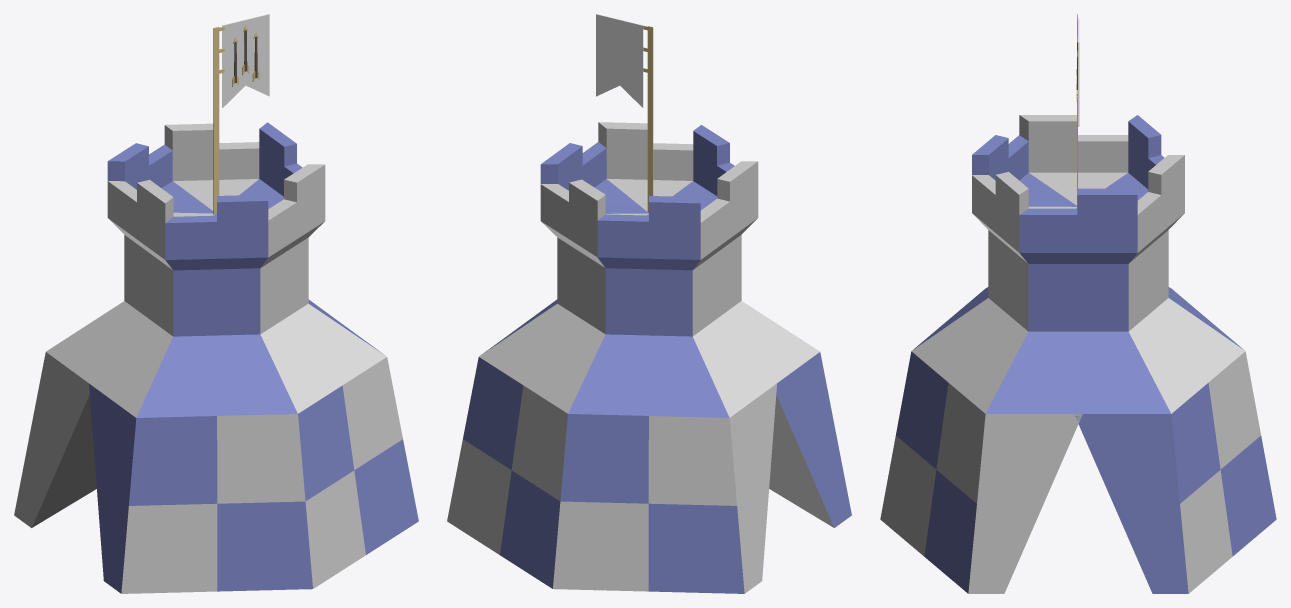
File: archer_tent_01.fbx
The picture shows the model from 3 angles, left to right: view 1: azimuth 30°, elevation 25°; view 2: azimuth 150°, elevation 25°; view 3: azimuth 270°, elevation 25°; orthographic projection. The views are drawn at different scales.
Visible parts, largest first — view 1: pCube158, pCube157; view 2: pCube158, pCube157; view 3: pCube158.
Part boxes in pixels (bbox=[...]): pCube158: bbox=[14, 122, 418, 593]; pCube157: bbox=[213, 14, 269, 214]; pCube158: bbox=[447, 122, 851, 593]; pCube157: bbox=[596, 14, 653, 212]; pCube158: bbox=[880, 115, 1276, 593].
Size of the model in its own units: 1.9 by 2.99 by 2.13.
